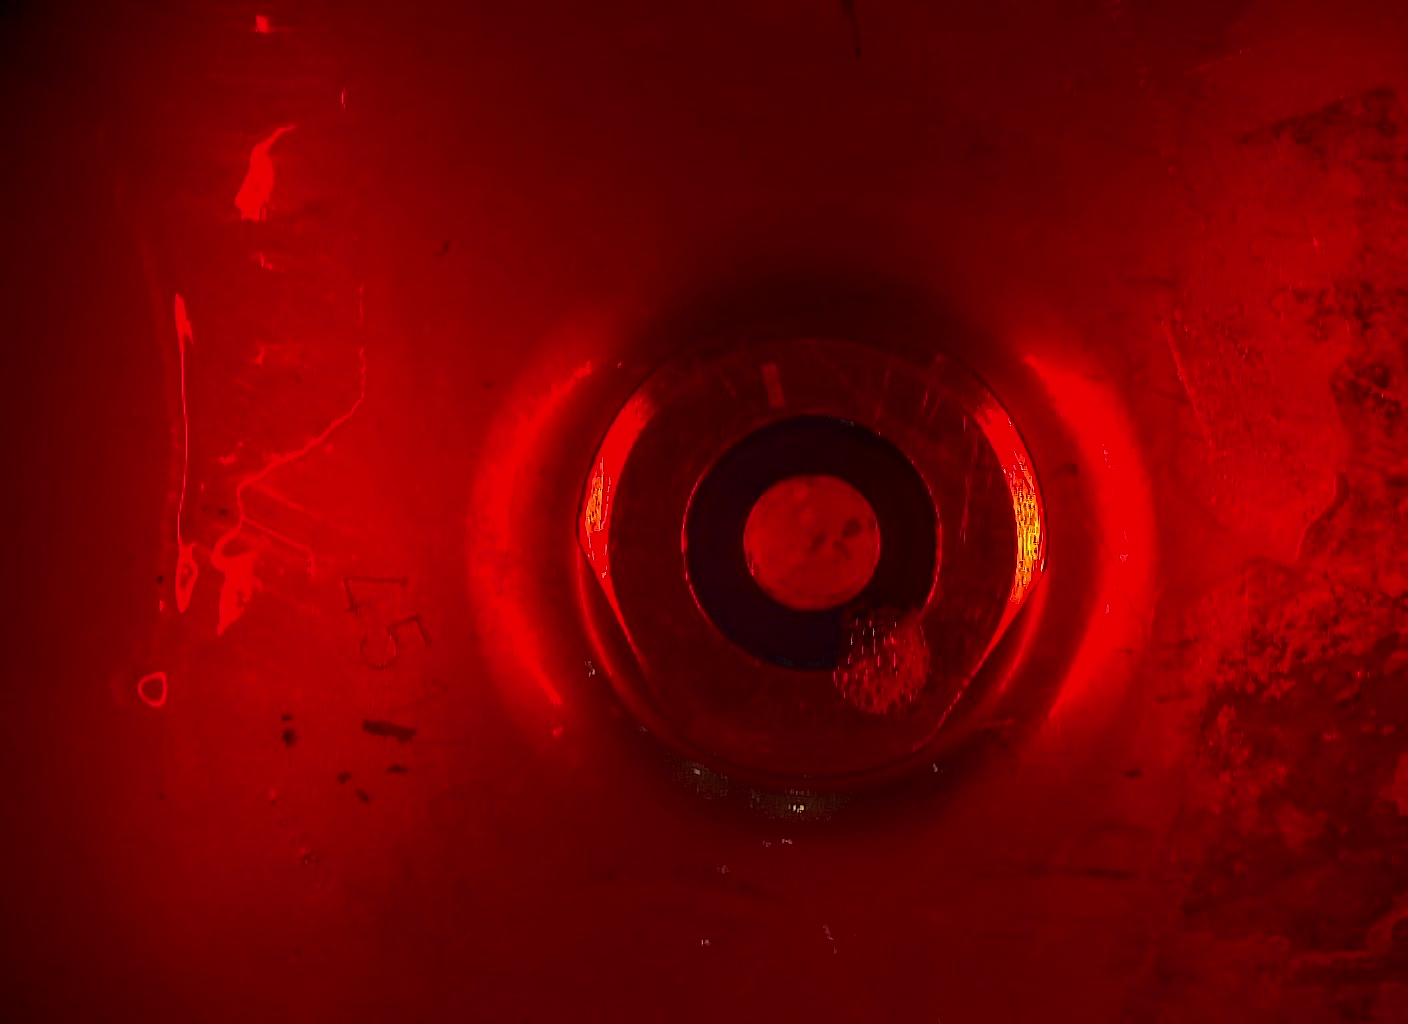pena: (828, 597, 941, 719)
